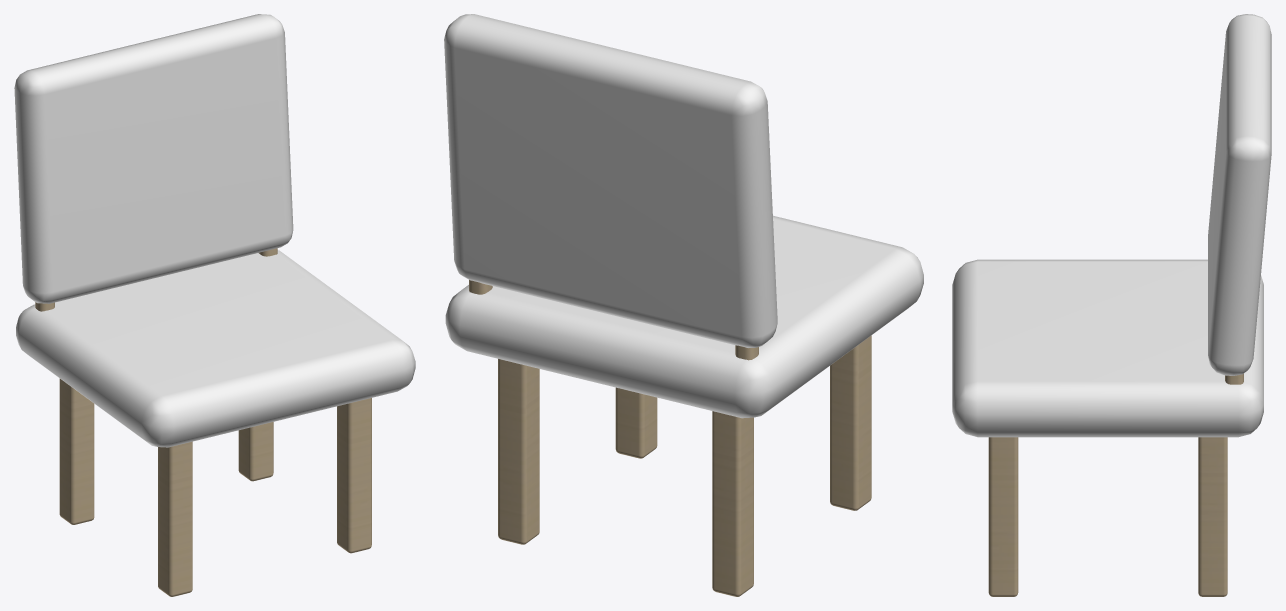
The model's file is side-chair-v1.glb.
3 views of the same model, side by side, from view 1: azimuth 30°, elevation 25°; view 2: azimuth 150°, elevation 25°; view 3: azimuth 270°, elevation 25° (orthographic). The views are drawn at different scales.
Visible parts, largest first — view 1: Timber foot; view 2: Timber foot; view 3: Timber foot.
Boxes of the visible parts, <box> form: Timber foot: <box>14,14,415,596</box>; Timber foot: <box>444,14,923,596</box>; Timber foot: <box>952,14,1271,596</box>.
Size of the model in its own units: 0.62 by 0.9648 by 0.5941.
Materials: 2 (2 with a texture image).
